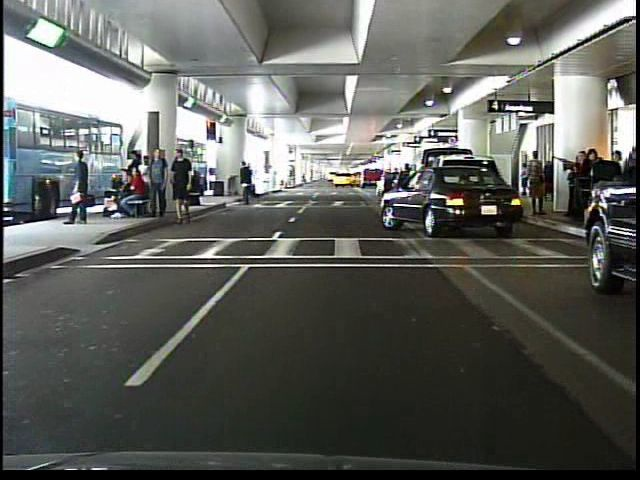person: (66, 145, 97, 233), (525, 149, 546, 216), (239, 159, 264, 205)
